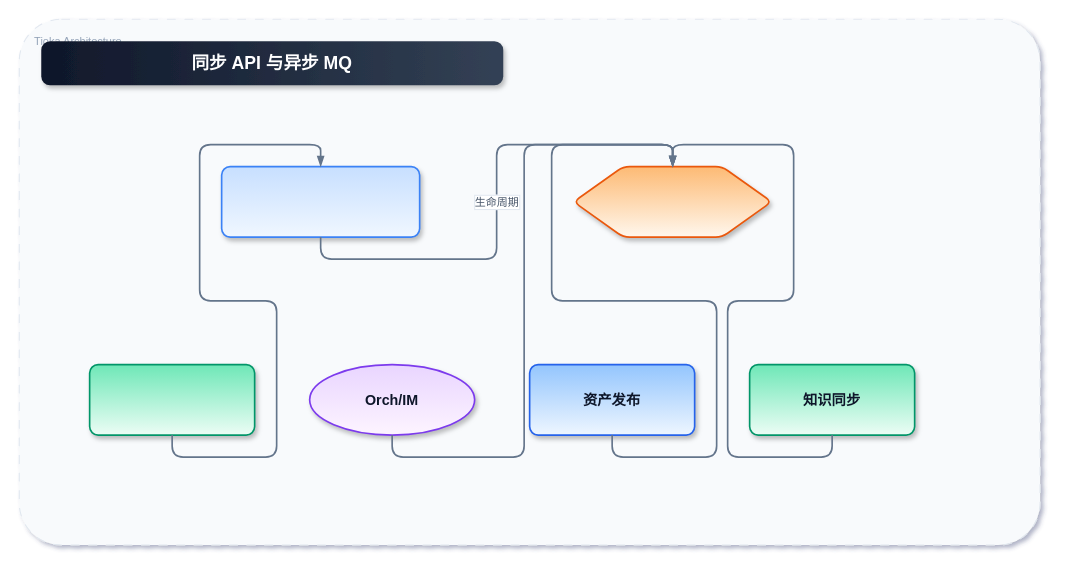
The diagram is 1066 pixels wide and 571 high, and some of its shapes have lost their labels. The centre of each missing label's shape, as x and y in pixels:
Chat/Runtime: (x=173, y=401)
同步 -api REST/RPC/SSE: (x=321, y=203)
异步 MQ tioka-*: (x=673, y=203)
